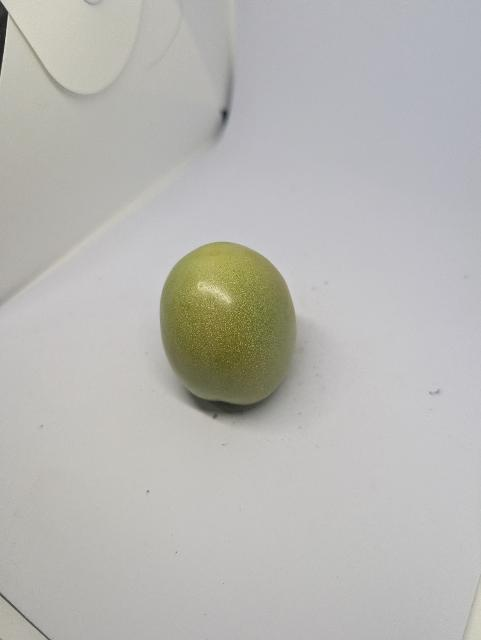green: (154, 233, 318, 414)
